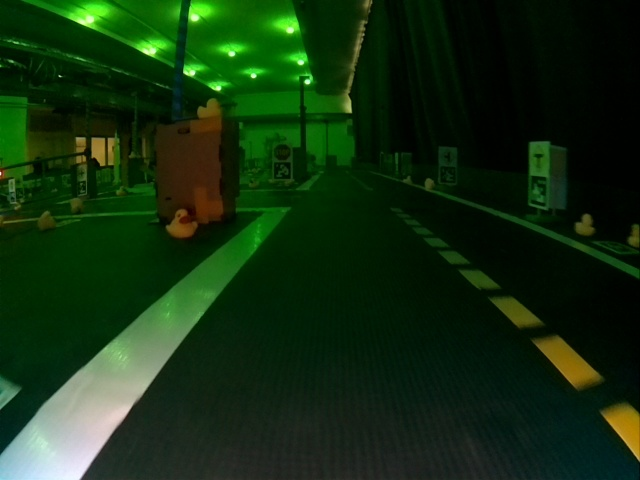Duckie: (165, 209, 194, 236), (573, 212, 594, 235), (196, 100, 221, 116), (628, 225, 638, 243), (69, 198, 81, 213), (428, 178, 434, 188), (406, 178, 412, 184)
Intersection sign: (531, 145, 545, 172), (440, 150, 455, 165)
QR code: (527, 181, 548, 207), (274, 166, 292, 180), (440, 168, 455, 184)
Stop sign: (274, 143, 291, 160)
